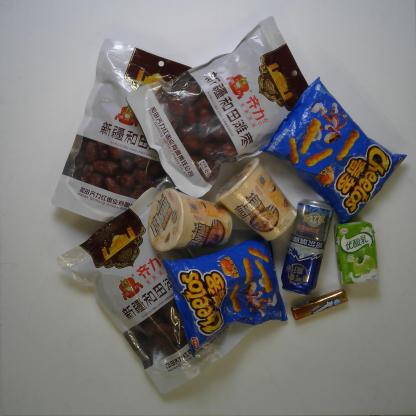Alcohol: (279, 196, 335, 298)
Candy: (289, 288, 349, 322)
Dried Food: (51, 182, 262, 399), (123, 13, 312, 200), (47, 32, 200, 226)
Instant Noodles: (210, 152, 300, 242), (146, 186, 236, 254)
Milk: (331, 218, 382, 288)
Puffed Food: (254, 73, 410, 229), (157, 230, 292, 359)
